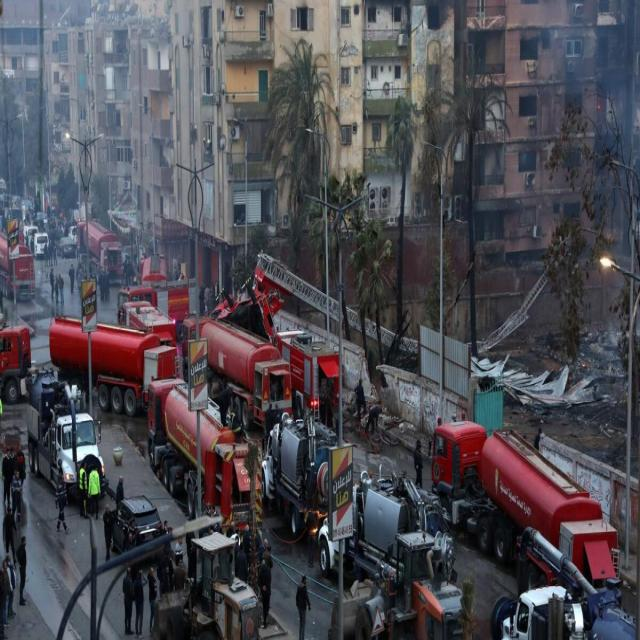Fire-truck: (428, 428, 590, 563), (63, 289, 164, 411), (146, 402, 240, 528), (231, 324, 309, 430)
car: (122, 470, 177, 571)
person: (295, 574, 311, 639), (414, 439, 424, 487), (354, 377, 365, 420)
